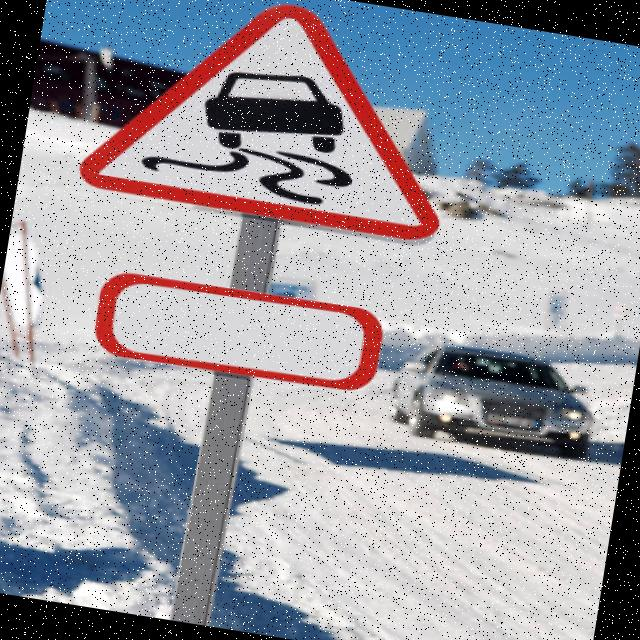road_slippery: (66, 0, 472, 253)
